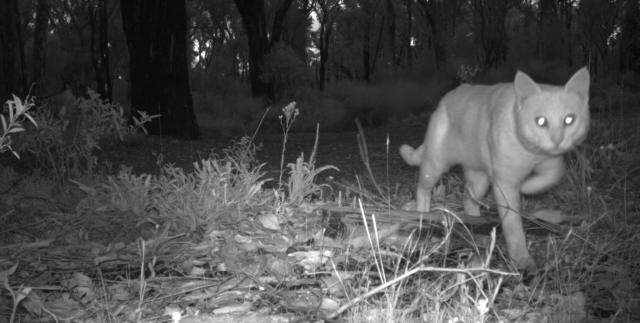house cat: (399, 56, 588, 230)
